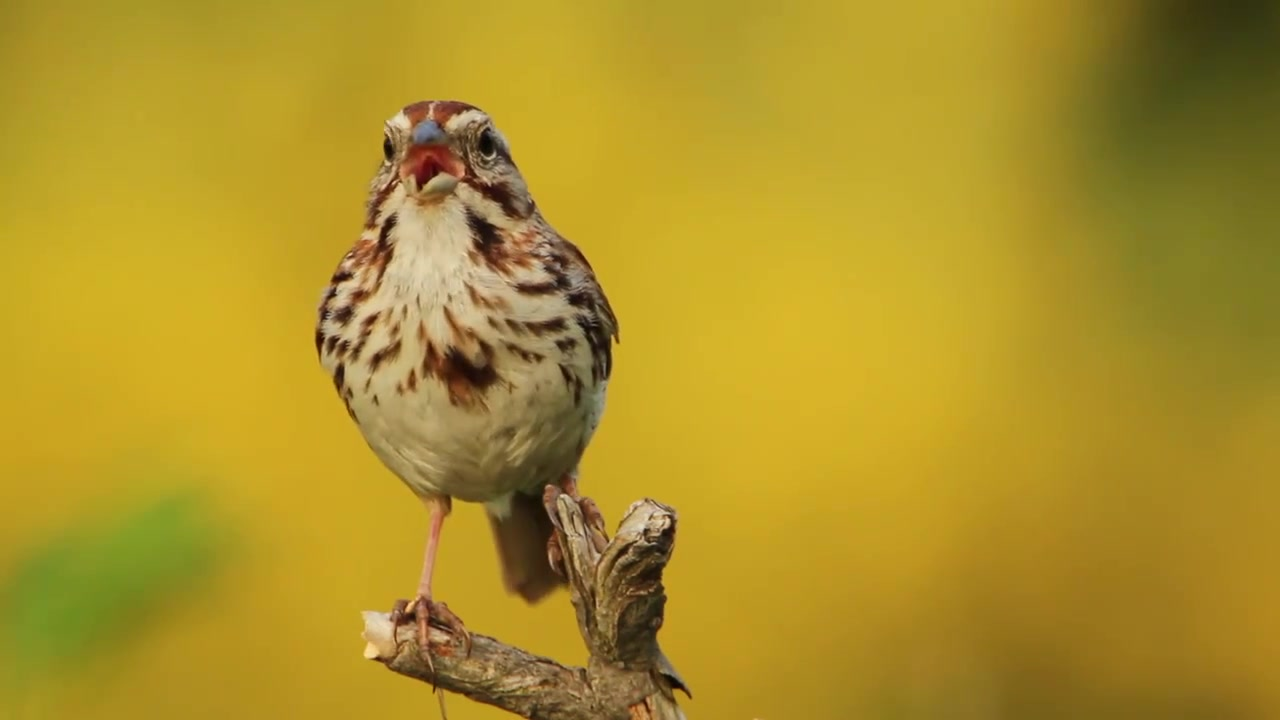bird: (315, 99, 622, 693)
